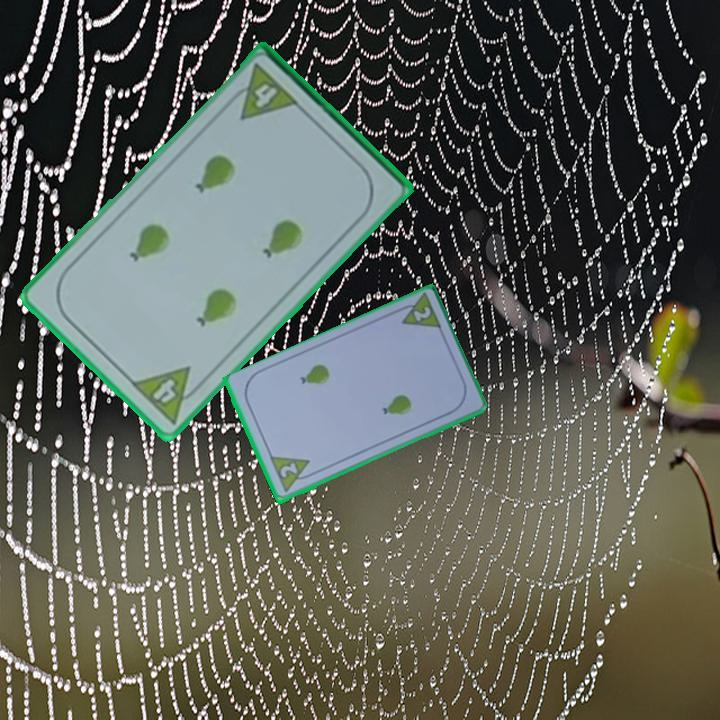2p: (266, 453, 317, 496), (409, 303, 434, 325)
4p: (127, 363, 208, 428), (223, 60, 301, 124)
